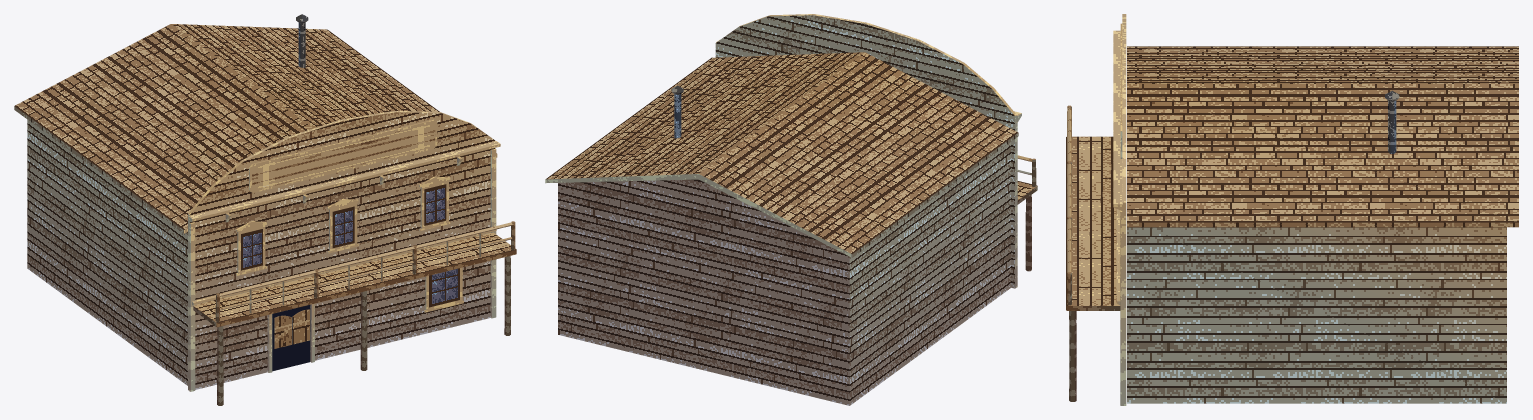
Rendered from wtown.saloon__arched.glb.
3 views of the same model, side by side, from view 1: azimuth 30°, elevation 25°; view 2: azimuth 150°, elevation 25°; view 3: azimuth 270°, elevation 25° (orthographic). The views are drawn at different scales.
Visible parts, largest first — view 1: kit_roof, kit_front, kit_body, kit_balcony, kit_card_panes, kit_trim, kit_windows, kit_door, kit_stovepipe; view 2: kit_body, kit_roof, kit_front, kit_balcony, kit_stovepipe; view 3: kit_roof, kit_body, kit_balcony, kit_trim, kit_front, kit_stovepipe.
Part boxes in pixels (x1,y1,x2,y2): kit_roof: (14,24,497,233); kit_front: (188,111,495,390); kit_body: (27,119,187,385); kit_balcony: (193,221,516,405); kit_card_panes: (241,122,459,371); kit_trim: (188,119,500,391); kit_windows: (236,176,463,312); kit_door: (274,309,309,348); kit_stovepipe: (296,14,308,67); kit_body: (558,142,1010,405); kit_roof: (545,52,1018,257); kit_front: (715,14,1016,288); kit_balcony: (1017,155,1037,271); kit_stovepipe: (671,85,683,138); kit_roof: (1127,46,1518,227); kit_body: (1127,227,1506,403); kit_balcony: (1066,105,1120,401); kit_trim: (1113,23,1122,405); kit_front: (1122,14,1126,405); kit_stovepipe: (1385,90,1399,153).
Bounding box in the file's own units: 12.1 × 8.7 × 13.12.
12 materials, 12 textured.
